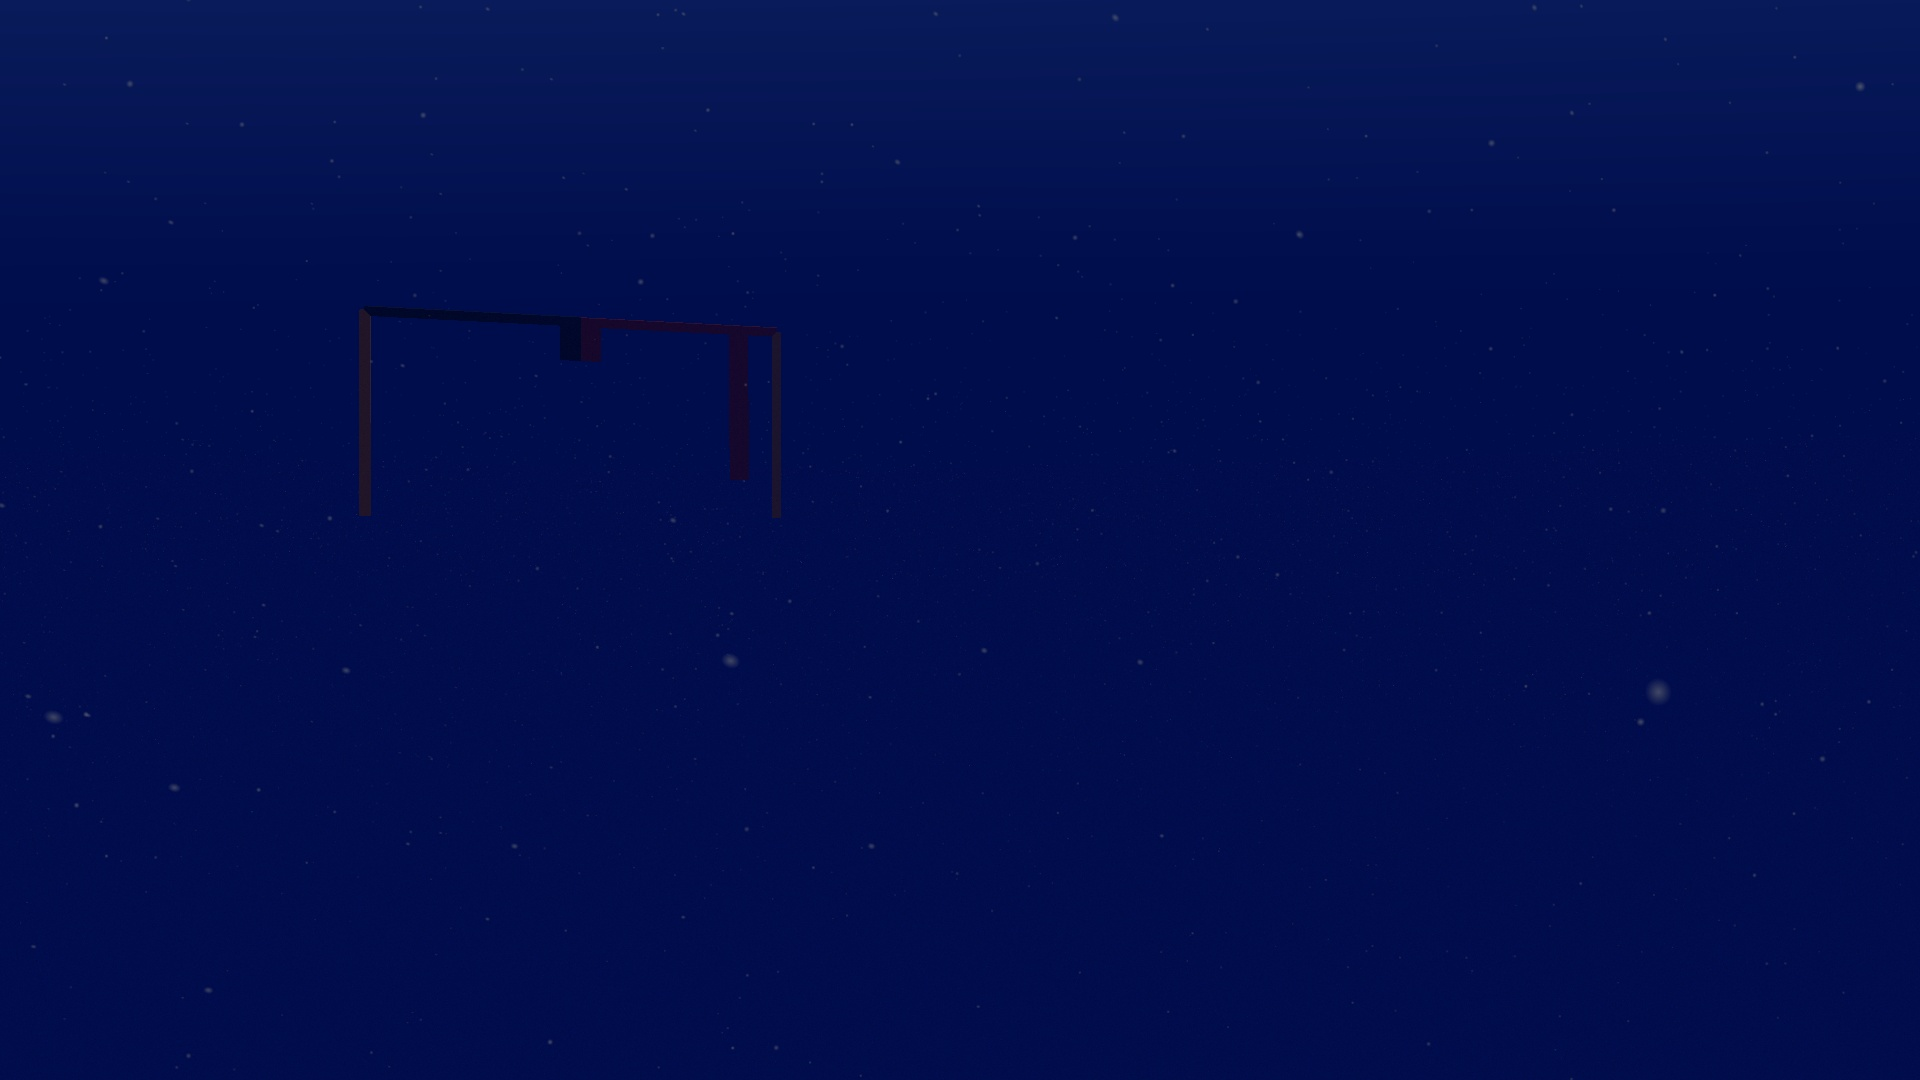Gate: (348, 294, 790, 531)
